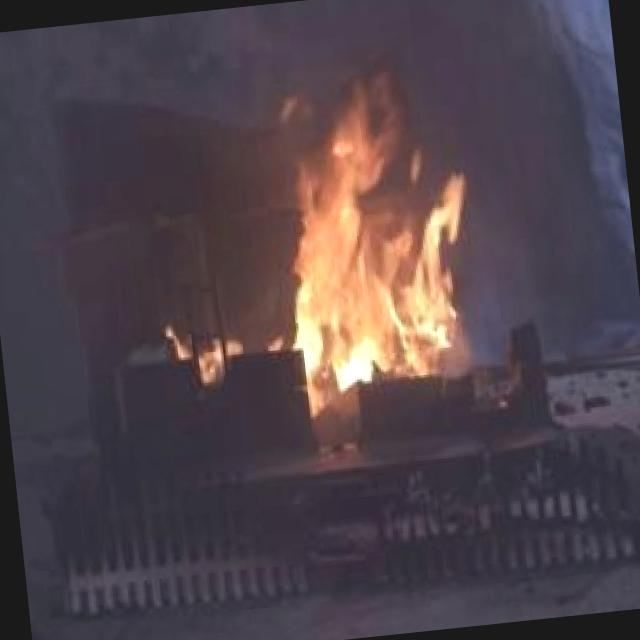fire: (231, 64, 524, 414)
